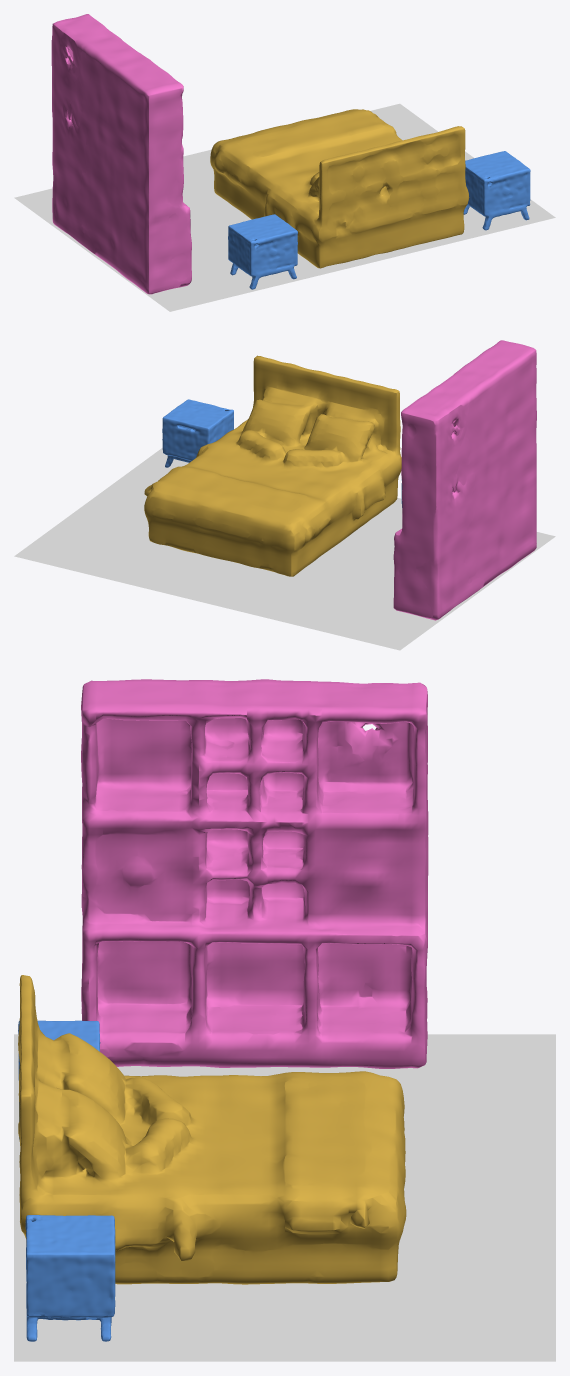
File: Bedroom3.glb
3 views of the same model, one above another, from view 1: azimuth 30°, elevation 25°; view 2: azimuth 150°, elevation 25°; view 3: azimuth 270°, elevation 25° (orthographic). The views are drawn at different scales.
Visible parts, largest first — view 1: world; view 2: world; view 3: world.
Boxes of the visible parts, x1,y1,x2,y2 form: world: (14,14,555,311); world: (14,340,555,650); world: (14,679,555,1361).
Size of the model in its own units: 4.51 by 2.28 by 3.14.
